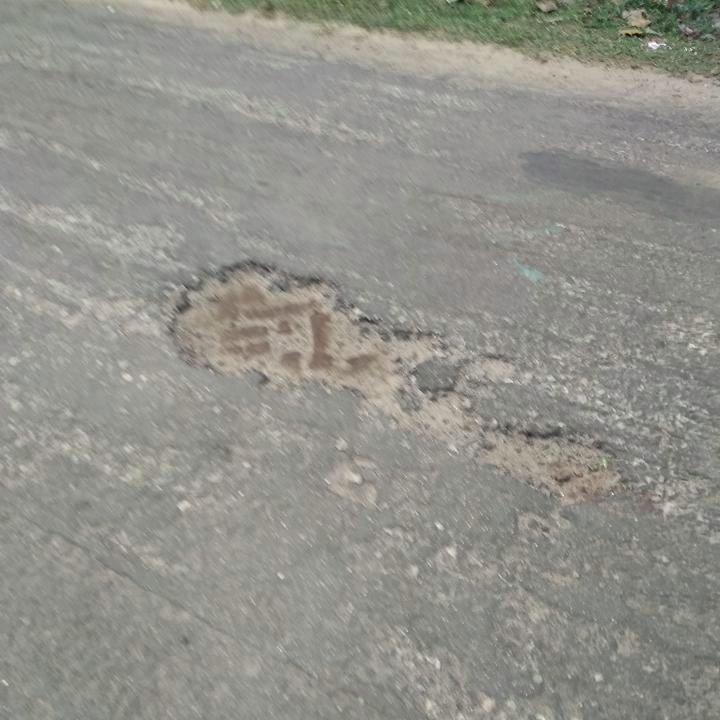pothole: (159, 252, 470, 442), (471, 417, 629, 504)
